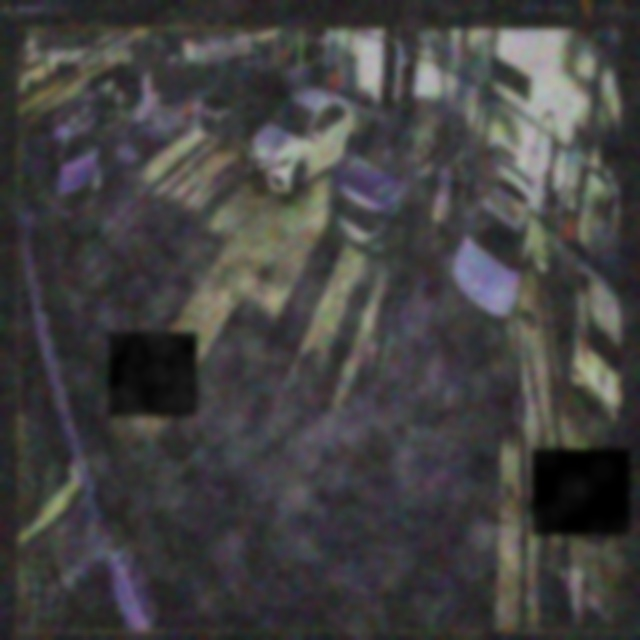Car: (328, 96, 452, 268), (446, 165, 532, 347), (249, 86, 362, 197), (200, 58, 292, 144)
